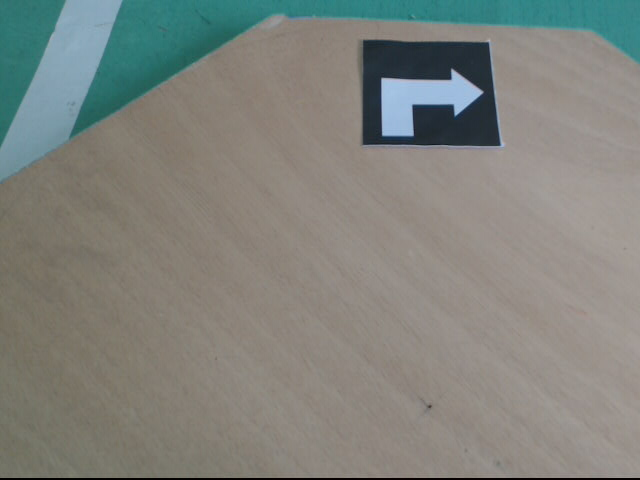right: (362, 39, 501, 145)
